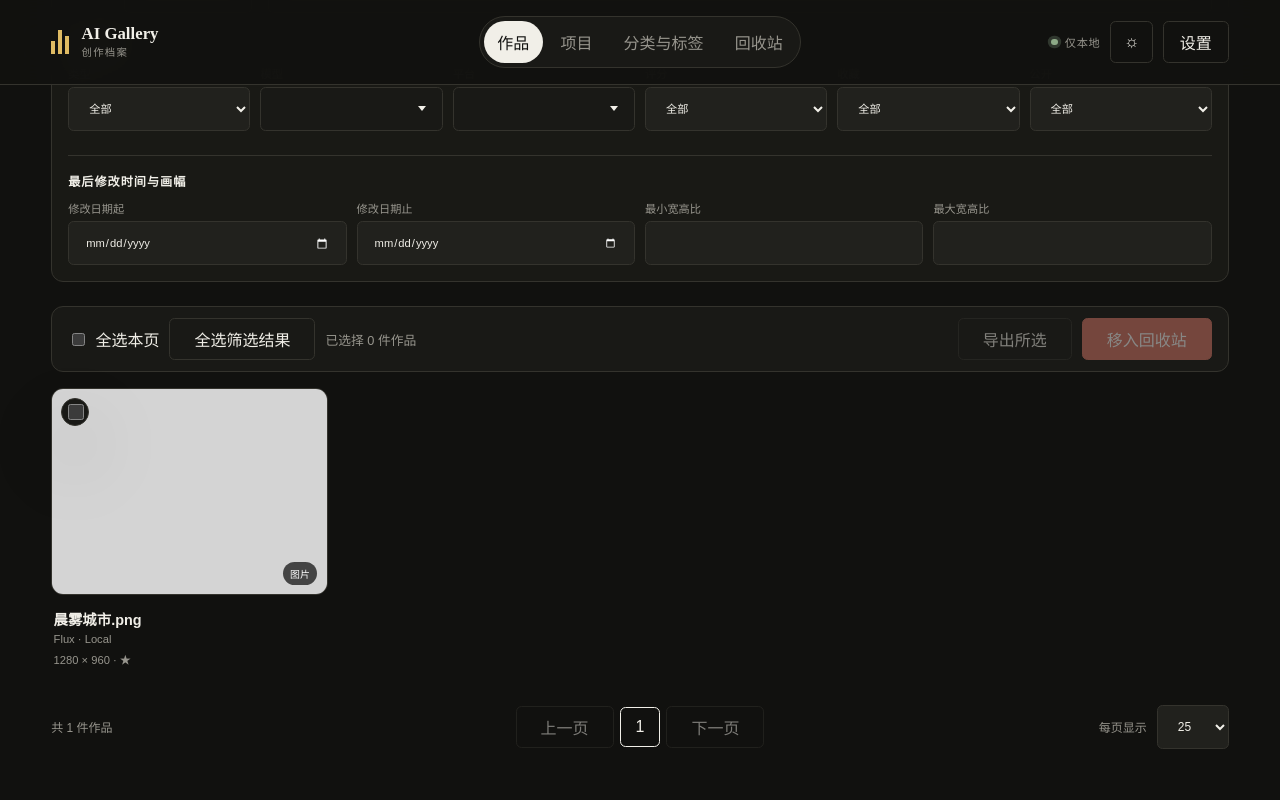
Test: M2 作品库页面 › 详情无法预览时显示 service 返回的安全原因
The width and height of the screenshot is (1280, 800).
(page scrolled)
Check: the heading "晨雾城市.png" is shown, box top-left (54, 612), bottom-right (142, 628)
What coordinates should you click on to do the following:
click the button "图片 晨雾城市.png Flux · Local 1280 × 960 · ★"
I would click on:
 (189, 535)
Its box is top-left (51, 388), bottom-right (328, 681).
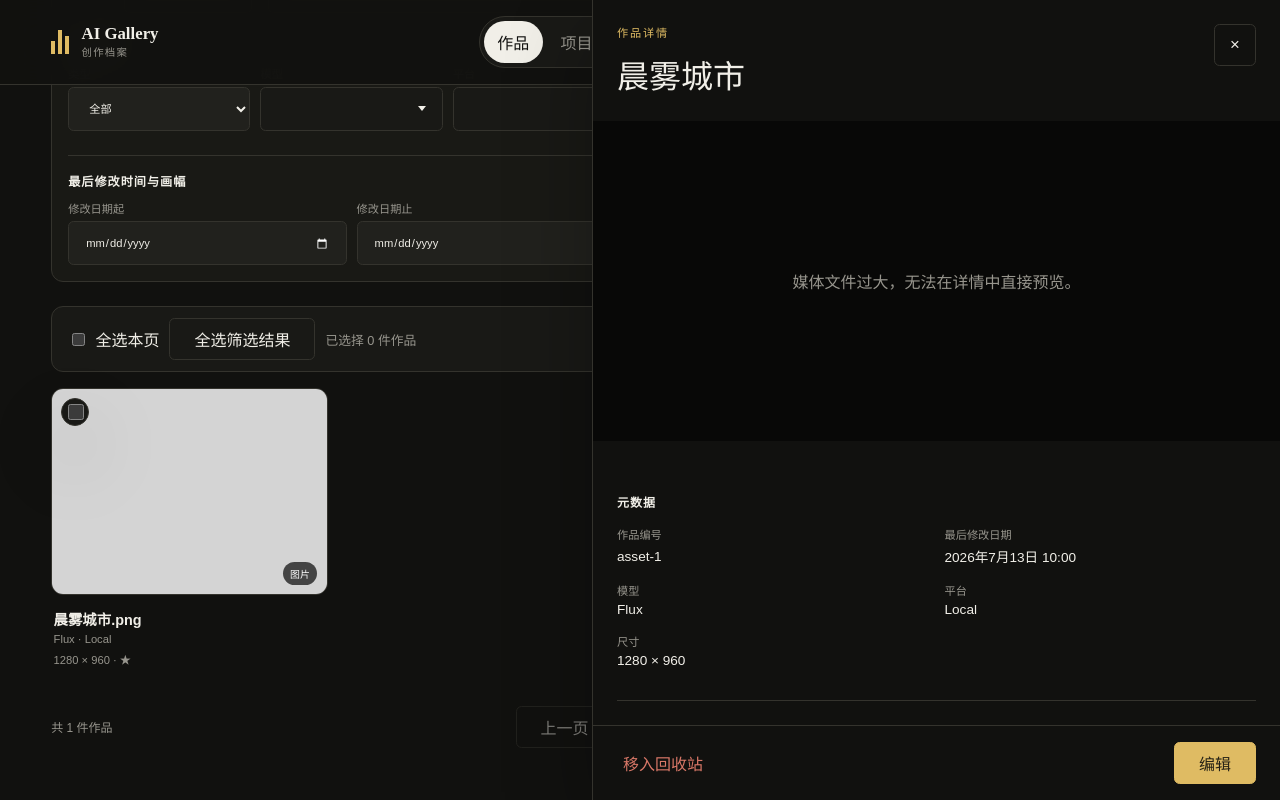
Check: the text "媒体文件过大，无法在详情中直接预览。" is shown, box top-left (792, 269), bottom-right (1080, 293)
